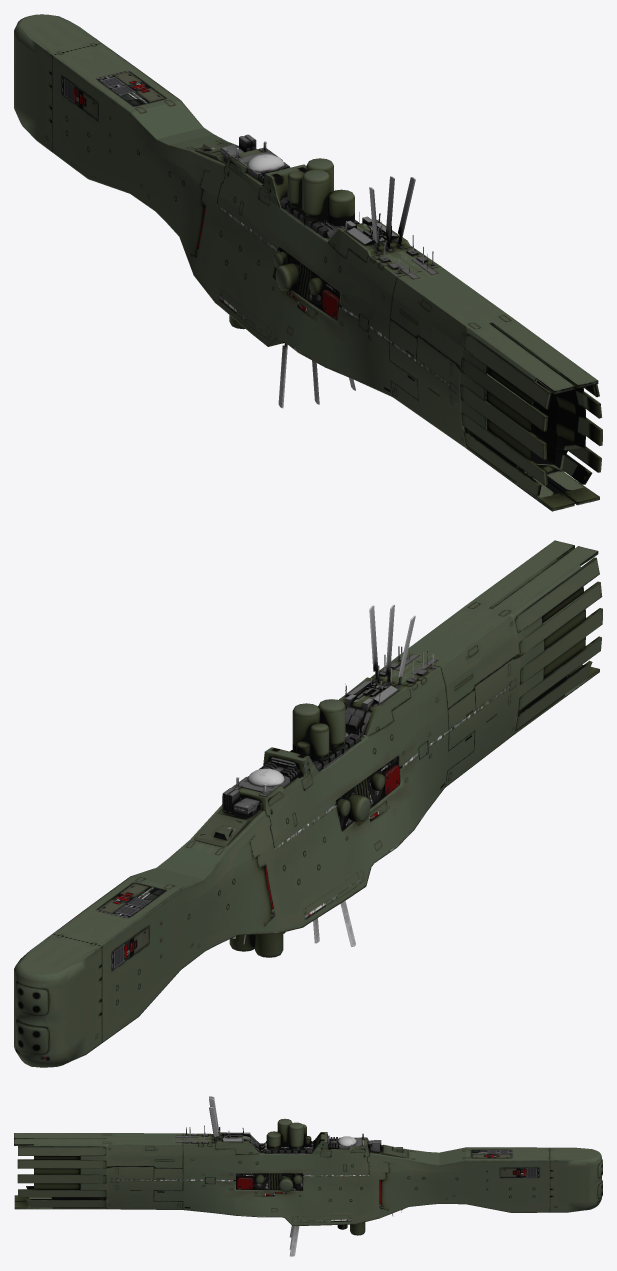
The model's file is tfpa_01_oldbattleship.obj.
The picture shows the model from 3 angles, top to bottom: view 1: azimuth 30°, elevation 25°; view 2: azimuth 150°, elevation 25°; view 3: azimuth 270°, elevation 25°; orthographic projection. The views are drawn at different scales.
Parts seen in each view (by area): view 1: Cube.063; view 2: Cube.063; view 3: Cube.063.
Boxes of the visible parts, box(x1,y1,x2,y2) form: Cube.063: box(14, 14, 602, 511); Cube.063: box(14, 540, 602, 1067); Cube.063: box(14, 1096, 602, 1256).
Bounding box in the file's own units: 1.99 × 5.46 × 19.27.
